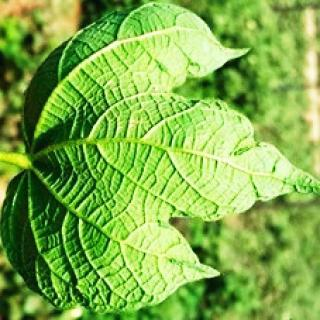curl: (17, 5, 318, 311)
